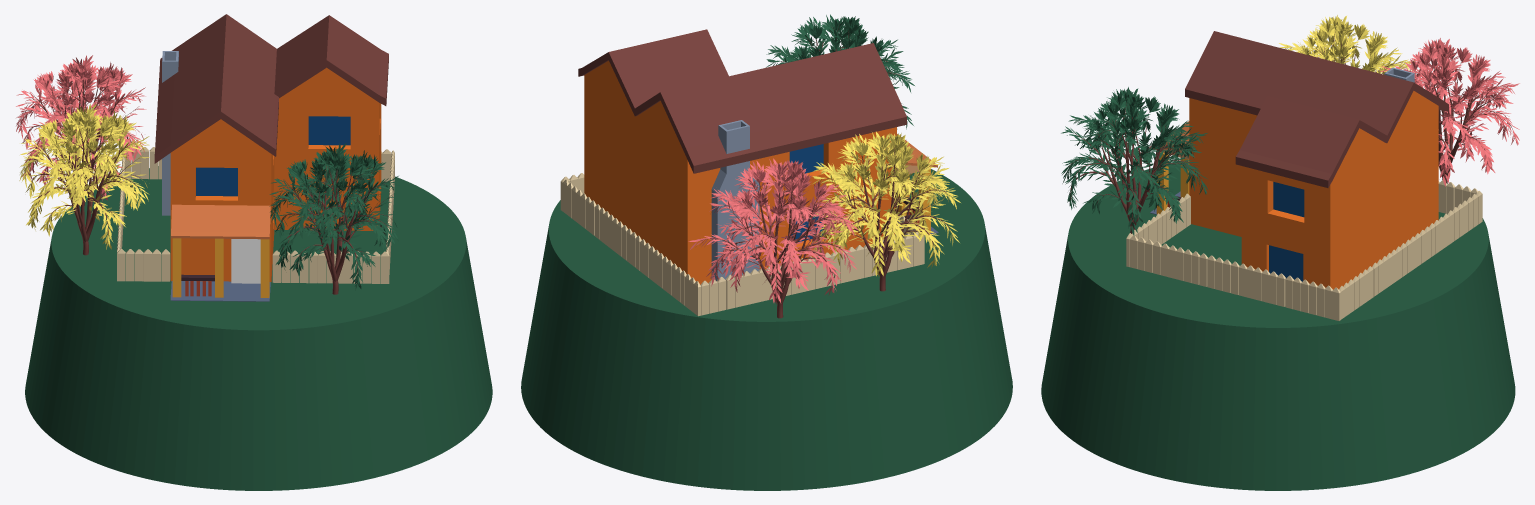
The model's file is Suburb.glb.
3 views of the same model, side by side, from view 1: azimuth 30°, elevation 25°; view 2: azimuth 150°, elevation 25°; view 3: azimuth 270°, elevation 25° (orthographic). The views are drawn at different scales.
Visible parts, largest first — view 1: Platform.003, Cube.078, leaves.002, leaves, Cube.177, leaves.001, tree.002, tree, CTRL_Hole, tree.001; view 2: Platform.003, Cube.078, leaves.001, Cube.177, leaves, leaves.002, tree.001, tree; view 3: Platform.003, Cube.078, Cube.177, leaves.002, leaves.001, leaves, tree.002, tree.001.
Part boxes in pixels (x1=…): Platform.003: x1=25, y1=166, x2=492, y2=490; Cube.078: x1=154, y1=14, x2=388, y2=301; leaves.002: x1=269, y1=143, x2=399, y2=290; leaves: x1=19, y1=103, x2=149, y2=249; Cube.177: x1=117, y1=147, x2=394, y2=283; leaves.001: x1=16, y1=55, x2=146, y2=201; tree.002: x1=274, y1=165, x2=393, y2=294; tree: x1=24, y1=126, x2=141, y2=255; CTRL_Hole: x1=231, y1=239, x2=260, y2=283; tree.001: x1=21, y1=77, x2=139, y2=205; Platform.003: x1=521, y1=169, x2=1012, y2=490; Cube.078: x1=578, y1=29, x2=938, y2=284; leaves.001: x1=688, y1=158, x2=857, y2=304; Cube.177: x1=560, y1=173, x2=924, y2=316; leaves: x1=812, y1=131, x2=960, y2=276; leaves.002: x1=766, y1=14, x2=914, y2=129; tree.001: x1=701, y1=171, x2=849, y2=318; tree: x1=815, y1=143, x2=952, y2=291; Platform.003: x1=1041, y1=161, x2=1515, y2=490; Cube.078: x1=1150, y1=31, x2=1448, y2=289; Cube.177: x1=1126, y1=180, x2=1482, y2=320; leaves.002: x1=1061, y1=87, x2=1207, y2=235; leaves.001: x1=1380, y1=38, x2=1519, y2=186; leaves: x1=1279, y1=15, x2=1414, y2=74; tree.002: x1=1069, y1=103, x2=1200, y2=233; tree.001: x1=1414, y1=53, x2=1512, y2=183.
Size of the model in its own units: 15.48 by 11.59 by 15.48.
